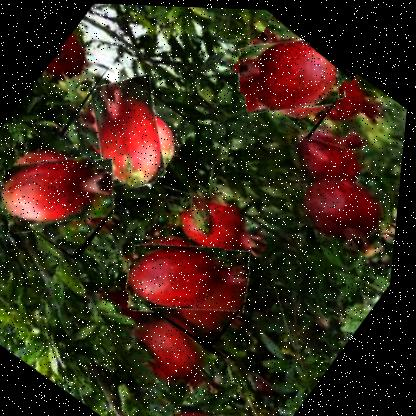pomegranate: (113, 206, 275, 351), (55, 61, 205, 199), (0, 122, 140, 263), (219, 10, 363, 140), (156, 385, 278, 415)
